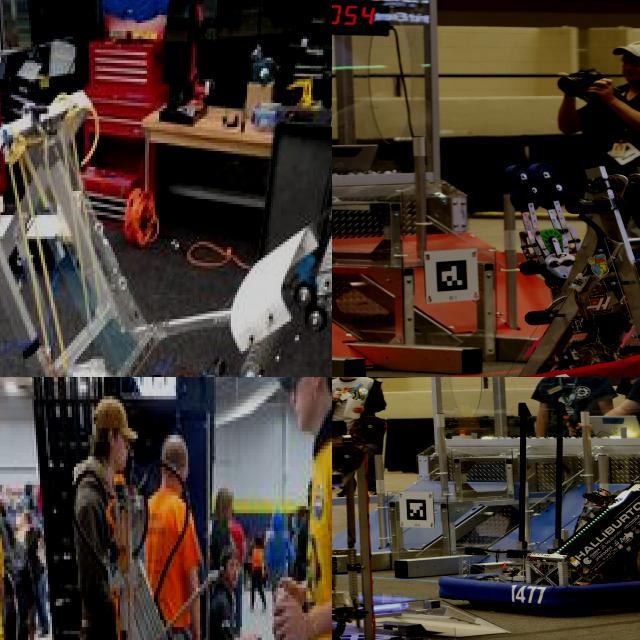FRC-Robots: (0, 75, 332, 377), (388, 111, 640, 377), (13, 457, 271, 640), (332, 421, 512, 640), (466, 402, 640, 622)
